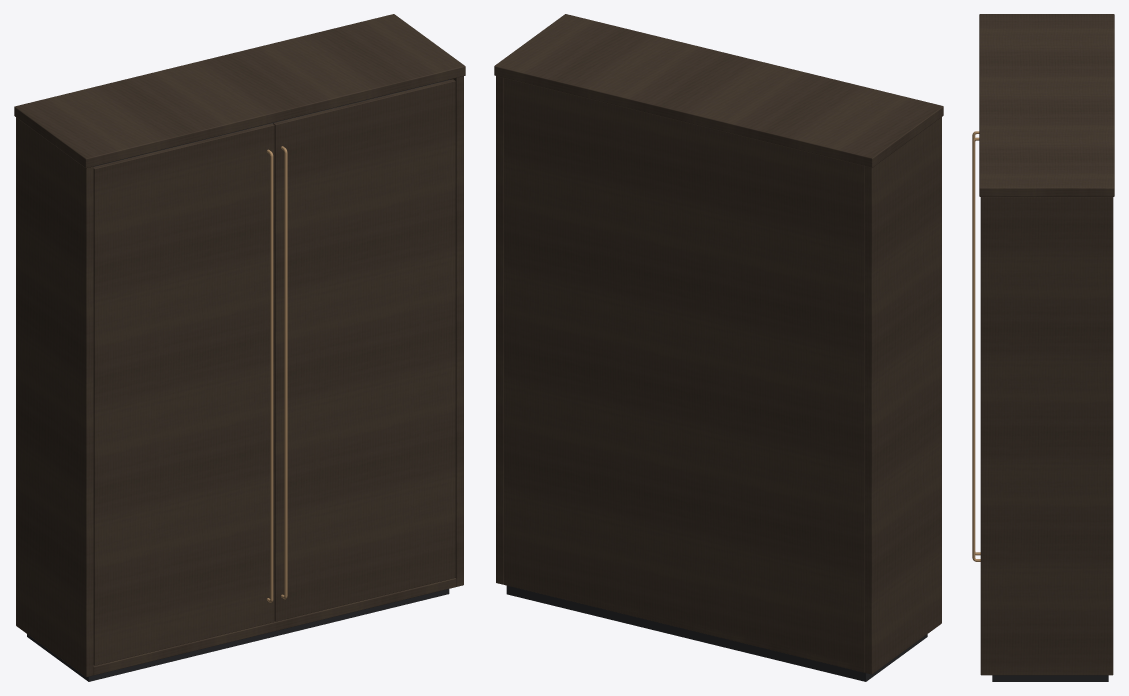
The model's file is wardrobe.gltf.
3 views of the same model, side by side, from view 1: azimuth 30°, elevation 25°; view 2: azimuth 150°, elevation 25°; view 3: azimuth 270°, elevation 25° (orthographic). The views are drawn at different scales.
Visible parts, largest first — view 1: Wardrobe_Door_R, Wardrobe_Door_L, Wardrobe_Side_L, Wardrobe_Top, Wardrobe_Side_R, Wardrobe_Bottom, Wardrobe_Plinth, Wardrobe_Pull_L, Wardrobe_Pull_R; view 2: Wardrobe_Back, Wardrobe_Side_L, Wardrobe_Top, Wardrobe_Side_R, Wardrobe_Plinth, Wardrobe_Bottom; view 3: Wardrobe_Side_R, Wardrobe_Top, Wardrobe_Pull_R, Wardrobe_Plinth.
Boxes of the visible parts, x1,y1,x2,y2 form: Wardrobe_Door_R: (273,79,455,621); Wardrobe_Door_L: (93,123,274,665); Wardrobe_Side_L: (16,117,93,677); Wardrobe_Top: (14,14,465,168); Wardrobe_Side_R: (450,76,463,586); Wardrobe_Bottom: (93,578,456,675); Wardrobe_Plinth: (27,589,449,681); Wardrobe_Pull_L: (266,149,273,602); Wardrobe_Pull_R: (281,146,287,599); Wardrobe_Back: (503,78,864,672); Wardrobe_Side_L: (864,117,941,674); Wardrobe_Top: (494,14,943,167); Wardrobe_Side_R: (496,76,503,584); Wardrobe_Plinth: (506,585,927,681); Wardrobe_Bottom: (504,577,864,672); Wardrobe_Side_R: (980,197,1113,675); Wardrobe_Top: (979,14,1114,196); Wardrobe_Pull_R: (972,137,980,561); Wardrobe_Plinth: (992,675,1108,681).
Bounding box in the file's own units: 1.8 × 2.4 × 0.62.
3 materials, 1 textured.
